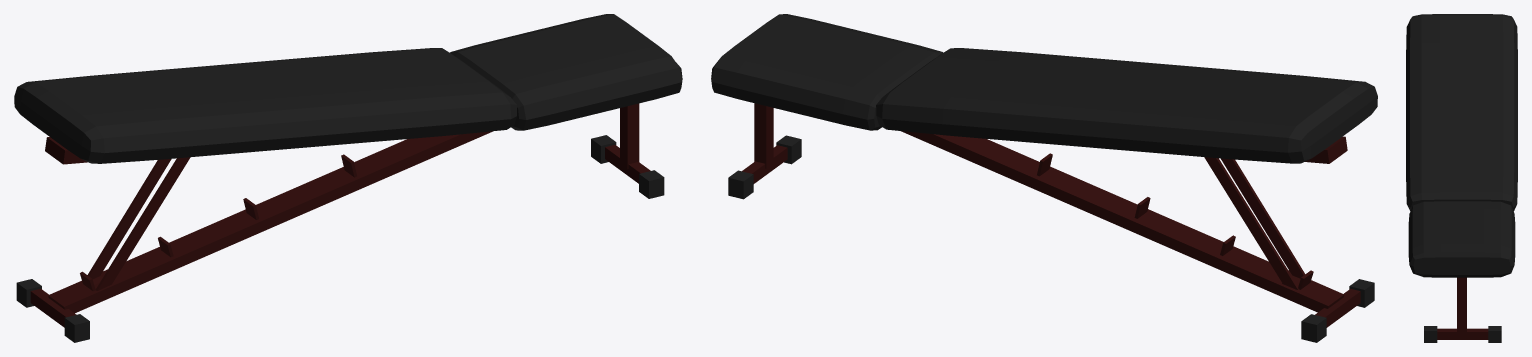
File: basic bench_11.12.2023.fbx
The picture shows the model from 3 angles, left to right: view 1: azimuth 30°, elevation 25°; view 2: azimuth 150°, elevation 25°; view 3: azimuth 270°, elevation 25°; orthographic projection. The views are drawn at different scales.
Parts seen in each view (by area): view 1: Cube, Cube.002, Cube.009, Cube.017, Cube.001, Cube.010, Cube.004, Cube.011, Cube.003, Cube.008; view 2: Cube, Cube.002, Cube.009, Cube.017, Cube.001, Cube.010, Cube.003, Cube.012, Cube.005, Cube.008; view 3: Cube, Cube.002, Cube.001, Cube.003, Cube.004, Cube.005.
Boxes of the visible parts, x1=… form: Cube: x1=14, y1=48, x2=516, y2=163; Cube.002: x1=450, y1=14, x2=682, y2=130; Cube.009: x1=48, y1=131, x2=492, y2=313; Cube.017: x1=87, y1=157, x2=190, y2=290; Cube.001: x1=620, y1=103, x2=639, y2=168; Cube.010: x1=30, y1=288, x2=76, y2=327; Cube.004: x1=639, y1=170, x2=664, y2=198; Cube.011: x1=64, y1=314, x2=89, y2=342; Cube.003: x1=605, y1=145, x2=650, y2=183; Cube.008: x1=45, y1=137, x2=87, y2=164; Cube: x1=876, y1=48, x2=1377, y2=163; Cube.002: x1=711, y1=14, x2=942, y2=130; Cube.009: x1=901, y1=131, x2=1344, y2=312; Cube.017: x1=1204, y1=157, x2=1305, y2=289; Cube.001: x1=754, y1=103, x2=773, y2=168; Cube.010: x1=1315, y1=288, x2=1360, y2=327; Cube.003: x1=742, y1=145, x2=787, y2=183; Cube.012: x1=1301, y1=314, x2=1326, y2=342; Cube.005: x1=728, y1=170, x2=753, y2=199; Cube.008: x1=1305, y1=136, x2=1347, y2=163; Cube: x1=1406, y1=14, x2=1517, y2=211; Cube.002: x1=1408, y1=201, x2=1515, y2=277; Cube.001: x1=1457, y1=277, x2=1466, y2=335; Cube.003: x1=1437, y1=328, x2=1488, y2=339; Cube.004: x1=1424, y1=326, x2=1437, y2=342; Cube.005: x1=1488, y1=326, x2=1501, y2=342.
Bounding box in the file's own units: 805 × 274 × 194.
